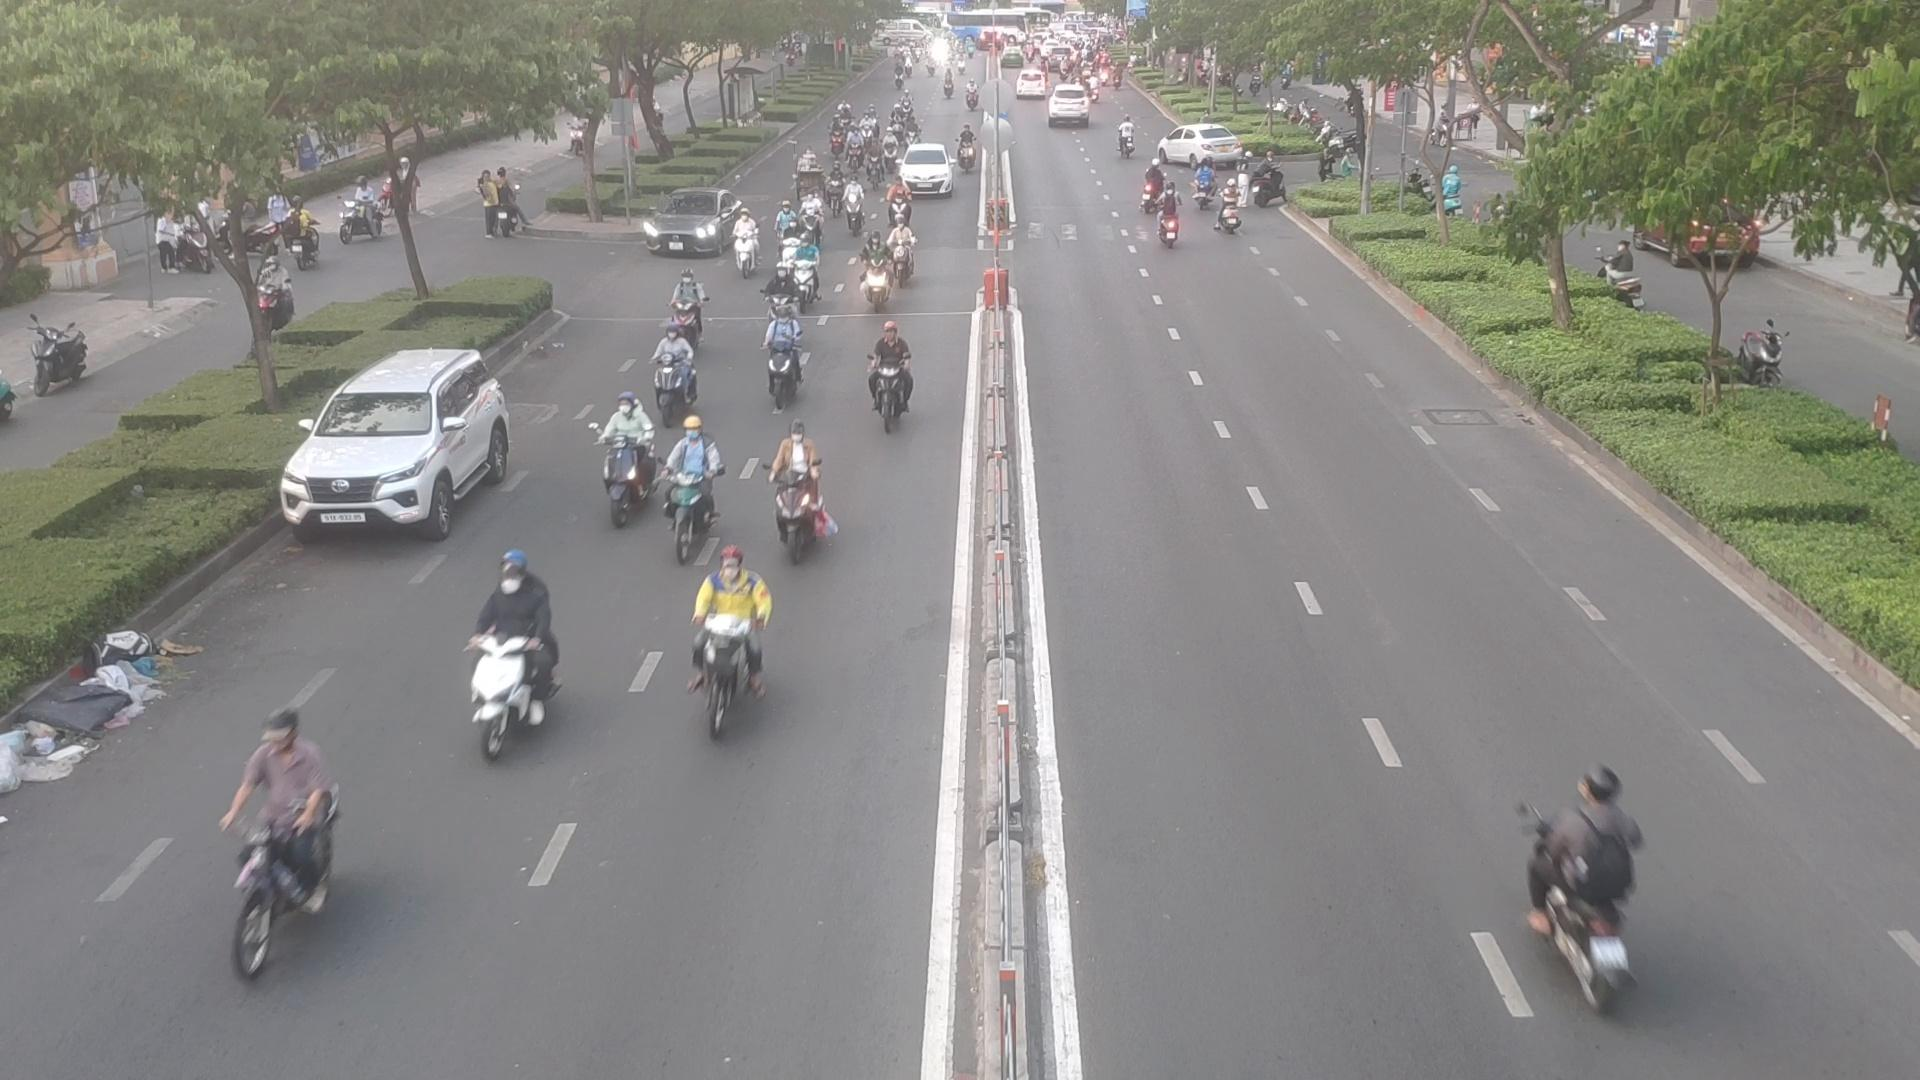car: (278, 345, 518, 538), (641, 190, 752, 264), (1160, 117, 1253, 170), (898, 142, 957, 194)
motorbike: (1511, 748, 1654, 1021), (218, 708, 351, 963), (465, 556, 564, 775), (684, 543, 764, 709), (600, 400, 661, 529), (745, 299, 812, 410), (855, 328, 922, 436), (655, 415, 707, 553), (773, 425, 825, 554), (638, 318, 687, 415), (663, 276, 705, 345), (860, 227, 891, 314), (732, 206, 766, 280), (890, 211, 913, 289), (762, 264, 793, 316), (800, 233, 824, 301), (952, 124, 982, 171), (778, 214, 800, 272), (1160, 182, 1182, 241), (1218, 182, 1244, 229), (884, 178, 909, 223), (827, 165, 847, 218), (1191, 160, 1212, 207), (844, 179, 862, 232), (1142, 157, 1160, 208), (800, 194, 820, 241), (868, 138, 882, 196), (880, 124, 897, 171), (769, 195, 787, 239), (845, 129, 861, 174), (827, 116, 843, 160), (1117, 116, 1135, 152), (905, 117, 920, 152), (858, 113, 872, 145)
